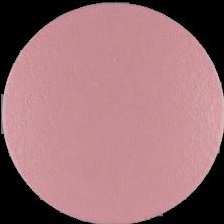23155-004: (0, 0, 224, 224)
